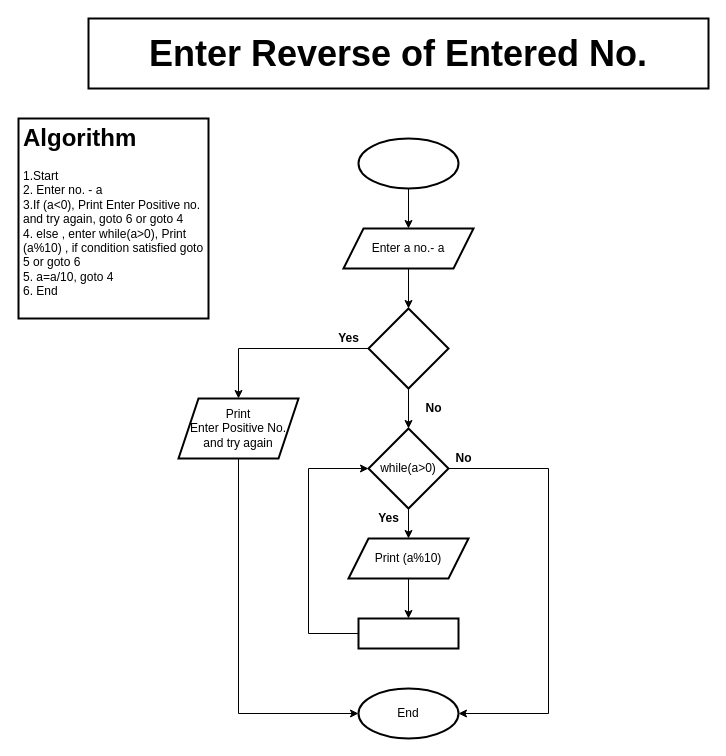
The diagram is 726 pixels wide and 756 high, and some of its shapes have lost their labels. Each missing label, with the centre of its shape:
"a=a/10" goes at (x=408, y=633).
"if (a<0)" goes at (x=408, y=348).
"Start" goes at (x=408, y=163).
